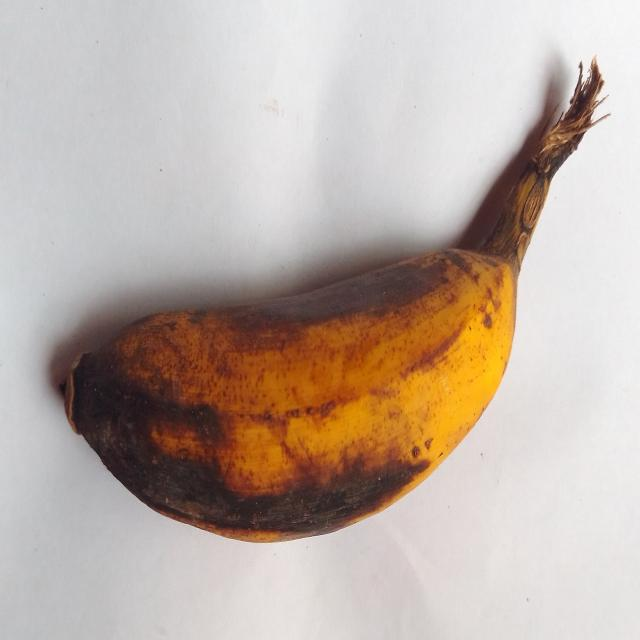banana: (63, 61, 602, 541)
